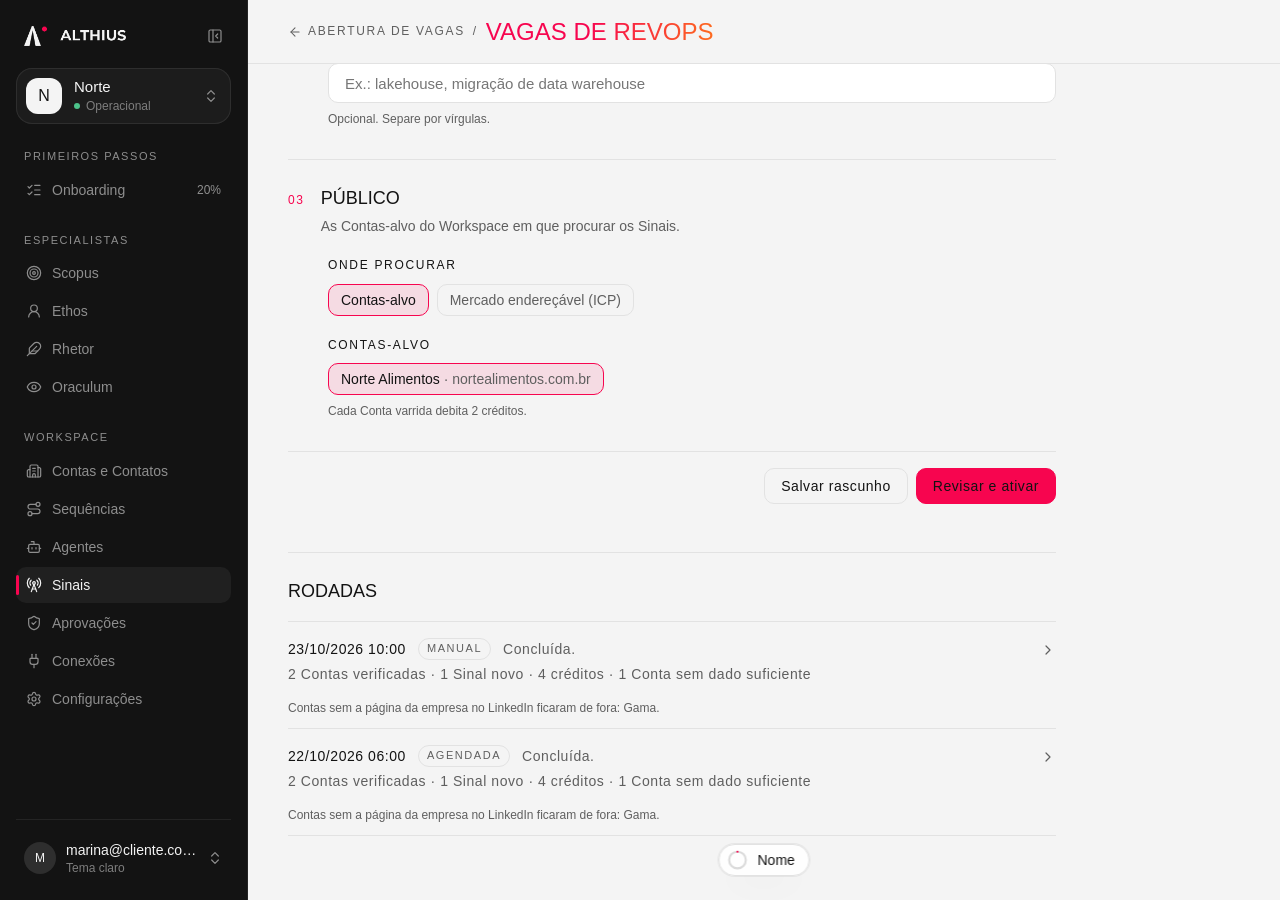
Test: Rodar agora no Workspace operacional › o histórico e os Sinais encontrados vêm do banco, com o "por que apareceu"
(page scrolled)
Expected: the list item that starts with "Manual" shows "2 Contas verificadas · 1 Sinal novo · 4 créditos · 1 Conta sem dado suficiente", left=288, top=622, right=1056, bottom=729
Expected: the list item that starts with "Manual" shows "Contas sem a página da empresa no LinkedIn ficaram de fora: Gama.", left=288, top=701, right=660, bottom=715
What coordinates should you click on to do the following:
click the button that starts with "Manual"
I would click on:
 (347, 649)
Its box is left=288, top=634, right=1056, bottom=688.
(page scrolled)
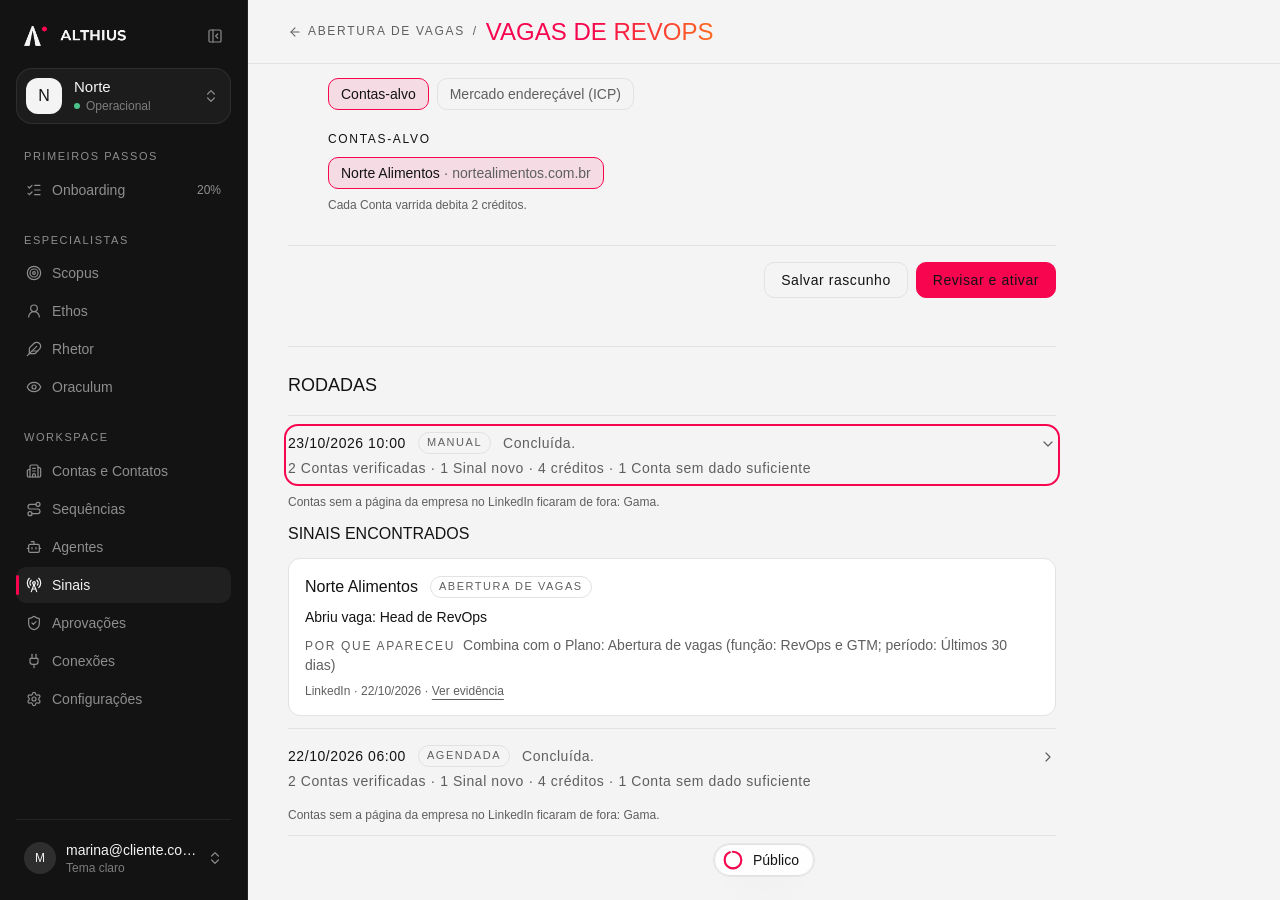
Expected: the list item that starts with "Norte Alimentos" shows "Abriu vaga: Head de RevOps", left=305, top=609, right=487, bottom=625
Expected: the list item that starts with "Norte Alimentos" shows "Por que apareceuCombina com o Plano: Abertura de vagas (função: RevOps e GTM; período: Últimos 30 dias)", left=288, top=558, right=1056, bottom=716
